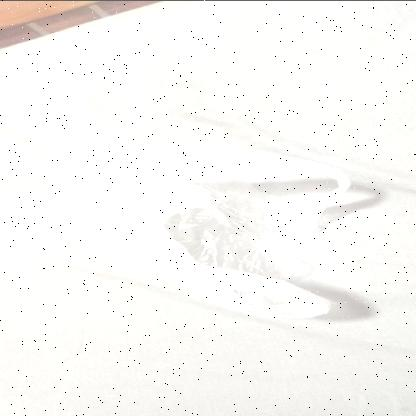Others: (34, 137, 354, 320)
